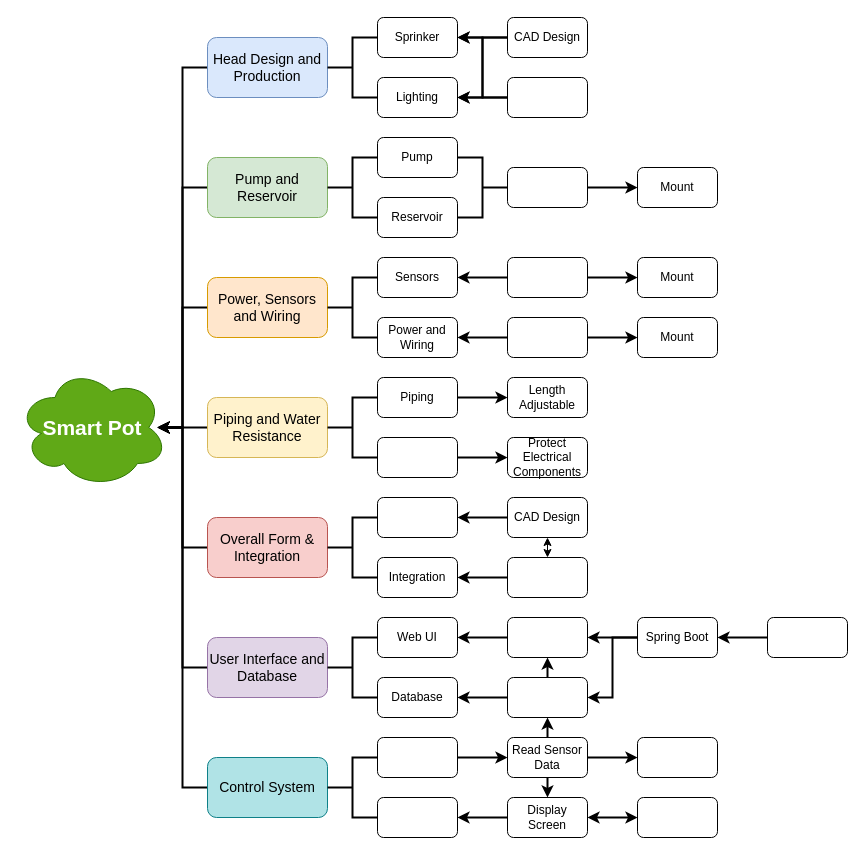
This 865x855 diagram has some shape labels left out. Here are the shapes that lost their labels. From the top down, the centre of each, then its label:
At [547,97]: "3D Print".
At [547,187]: "Selection".
At [547,277]: "Soil Moisture".
At [547,337]: "Power Supply".
At [417,457]: "Water Resistance".
At [417,517]: "Form".
At [547,577]: "Communication".
At [547,637]: "Thymeleaf".
At [807,637]: "Java".
At [547,697]: "MySQL".
At [417,757]: "Arduino".
At [677,757]: "Control LED and Sprinkler".
At [417,817]: "I/O".
At [677,817]: "Input Device".
